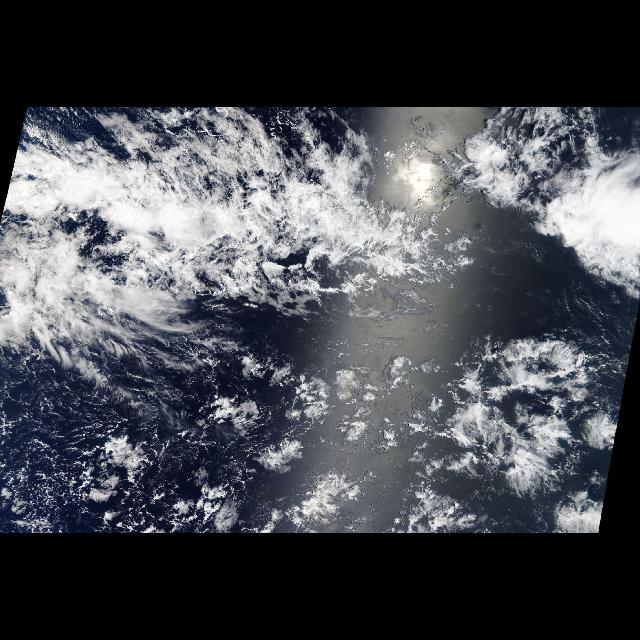Flower: (198, 352, 434, 530)
Gravel: (2, 362, 414, 528)
